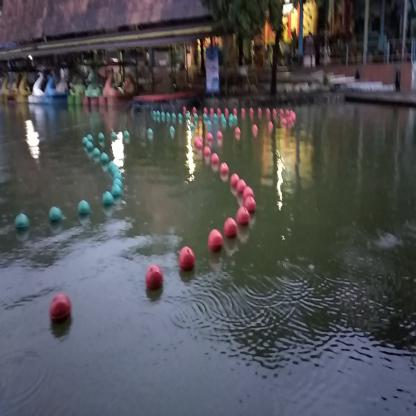green_buoy: (15, 214, 28, 230), (76, 200, 90, 213), (49, 206, 62, 220), (103, 192, 112, 208), (113, 182, 122, 196), (87, 140, 94, 155), (101, 152, 109, 165), (94, 147, 101, 160), (111, 162, 117, 176)
red_buoy: (50, 294, 72, 322), (146, 266, 162, 293), (179, 247, 195, 271), (208, 229, 223, 252), (224, 219, 238, 241), (238, 207, 249, 229), (245, 198, 256, 213), (238, 180, 246, 199), (245, 187, 253, 203), (231, 175, 237, 196), (221, 164, 228, 178)
